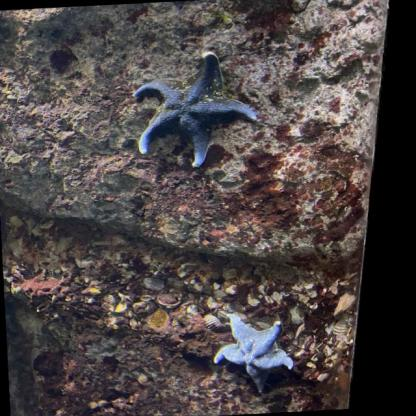starfish: (124, 48, 260, 171), (208, 308, 298, 400)
